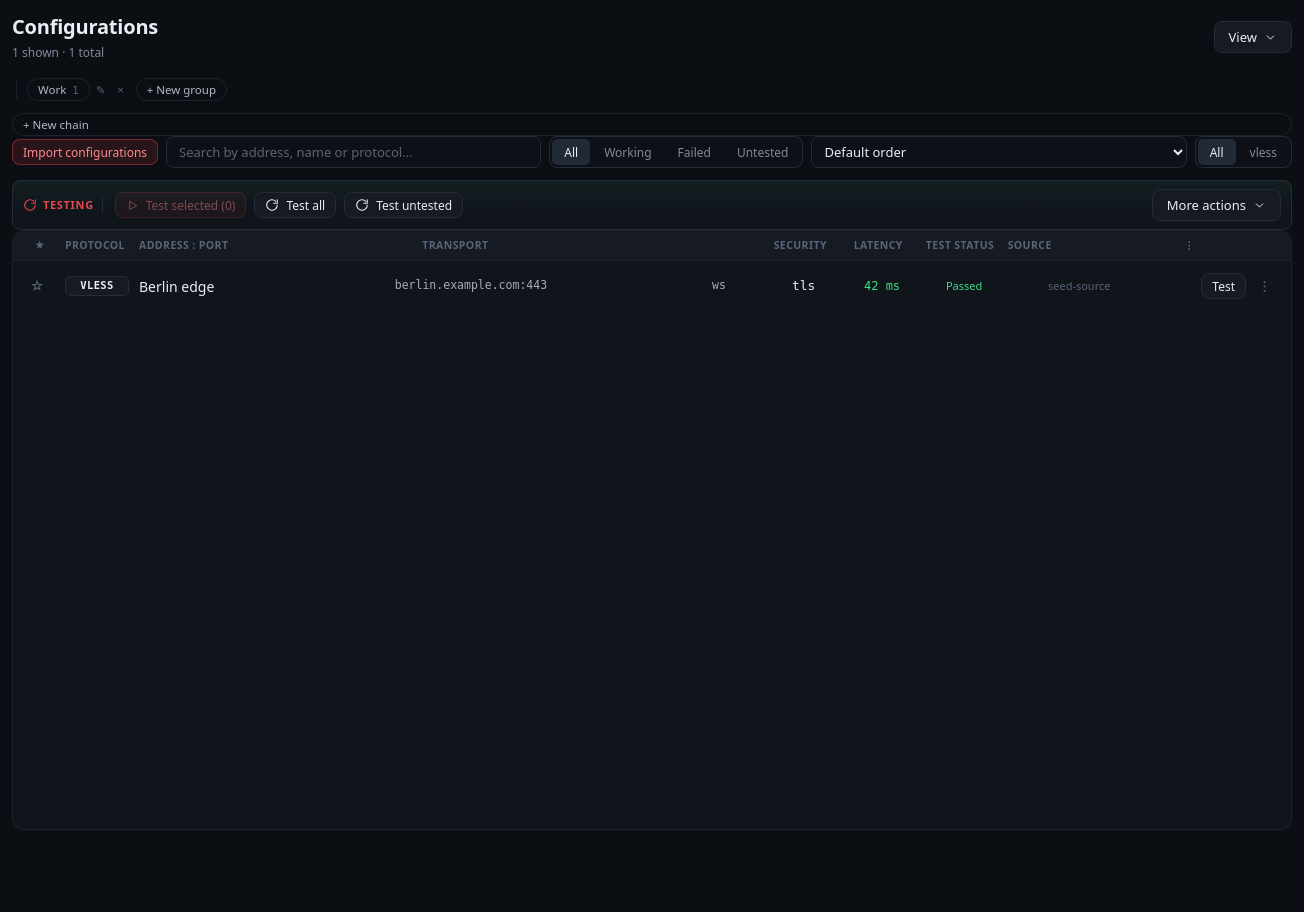
it: Configs dense table row (v0.11.0) › keeps bulk selection reachable and visible
The width and height of the screenshot is (1304, 912).
Check: the list named "Configurations" is shown, box left=25, top=273, right=1279, bottom=299
What coordinates should you click on to do the following:
click the button named "More actions for Berlin edge"
I would click on:
 (1264, 286)
Its box is left=1250, top=273, right=1279, bottom=299.
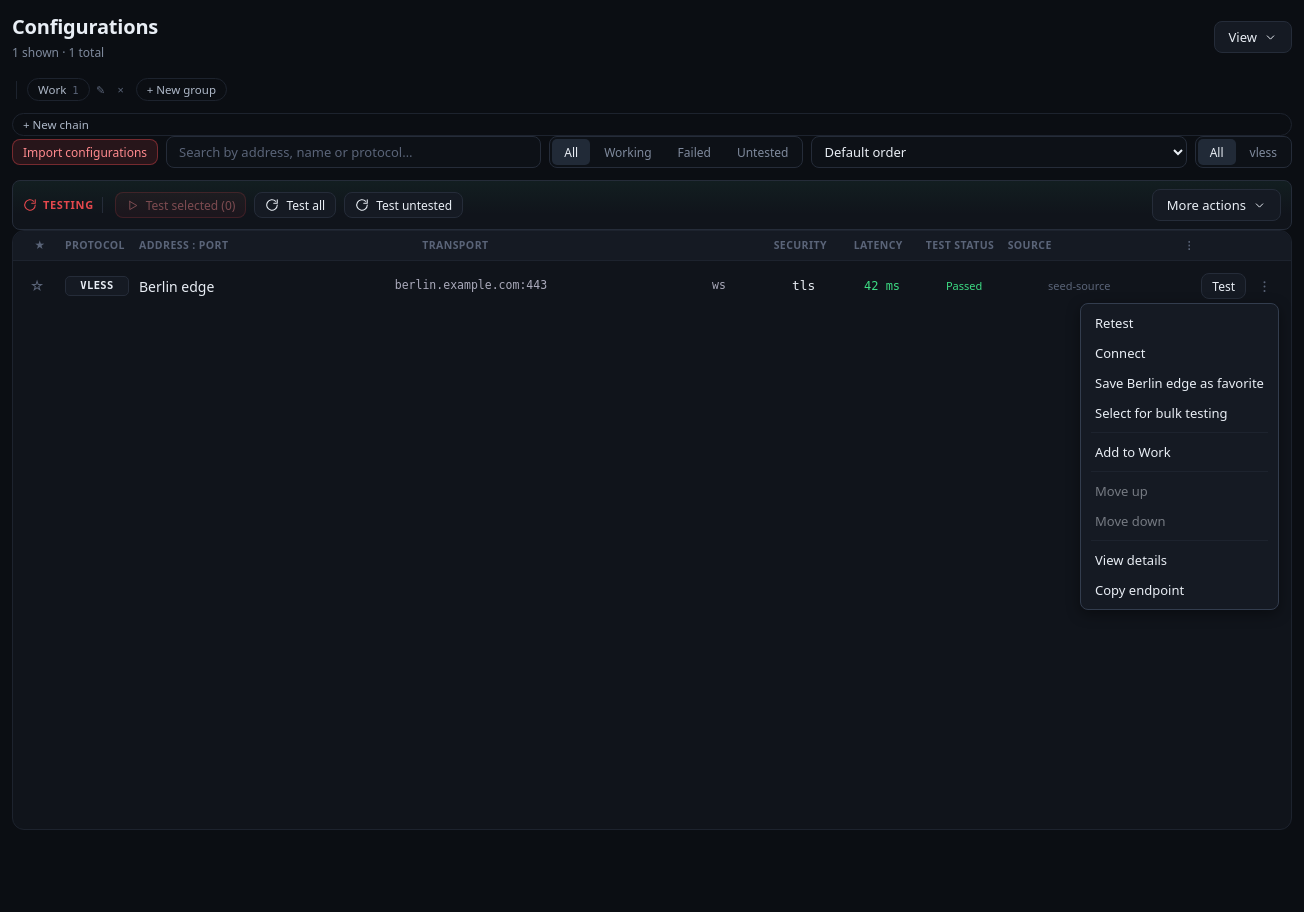
Check: the menu named "Configuration actions" is shown, box left=1080, top=303, right=1279, bottom=610
What coordinates should you click on to do the following:
click the menu item "Select for bulk testing"
I would click on:
 (1179, 413)
Its box is left=1085, top=398, right=1274, bottom=428.
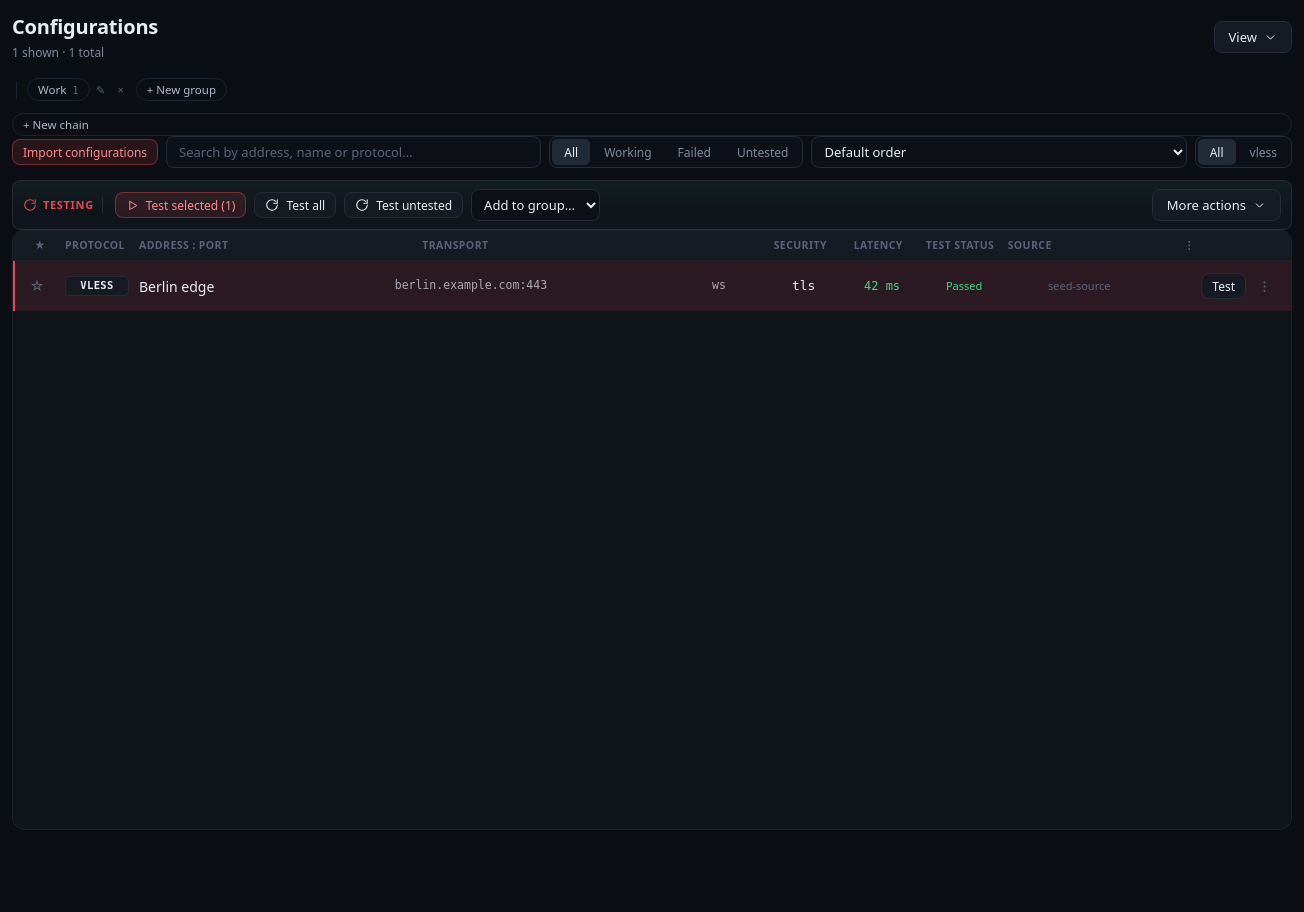
Check: the button "Test selected (1)" is shown, box left=115, top=192, right=246, bottom=218
